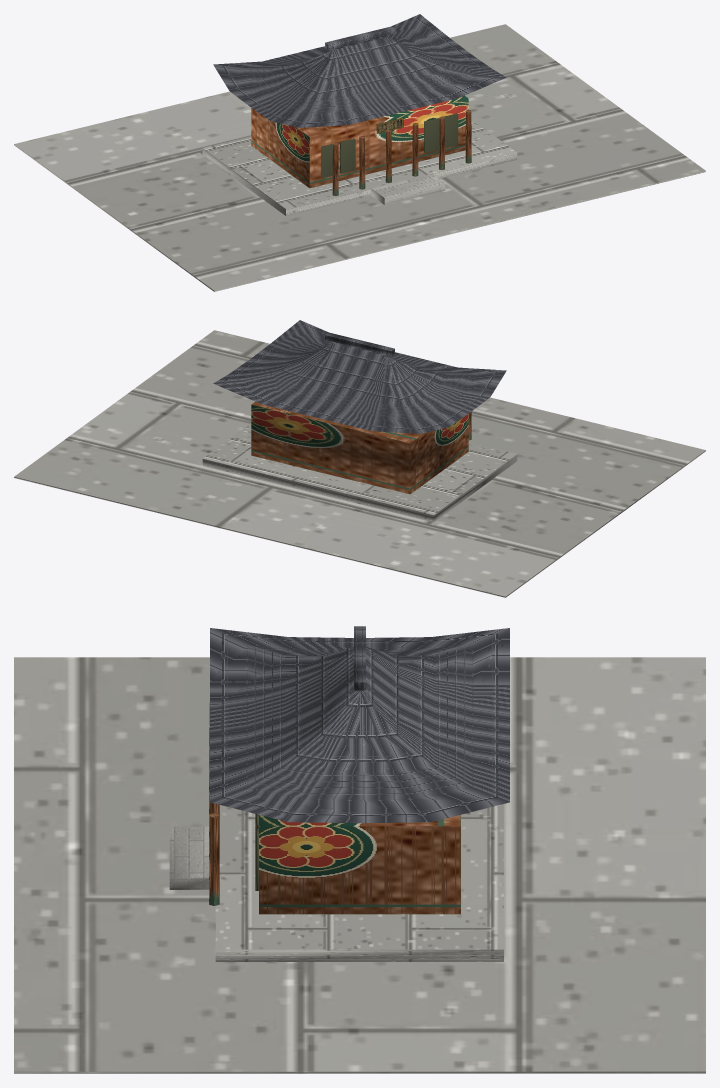
3 renders of one model, top to bottom at view 1: azimuth 30°, elevation 25°; view 2: azimuth 150°, elevation 25°; view 3: azimuth 270°, elevation 25°, orthographic. The views are drawn at different scales.
Visible parts, largest first — view 1: 11140_02_04519_004_01_L2__plinth, 11140_02_04519_004_03_L2__roof, 11140_02_04519_004_02_L2__body, 11140_02_04519_004_05_L2__openings; view 2: 11140_02_04519_004_01_L2__plinth, 11140_02_04519_004_03_L2__roof, 11140_02_04519_004_02_L2__body; view 3: 11140_02_04519_004_01_L2__plinth, 11140_02_04519_004_03_L2__roof, 11140_02_04519_004_02_L2__body.
Part boxes in pixels (x1=…): 11140_02_04519_004_01_L2__plinth: x1=14, y1=24, x2=705, y2=291; 11140_02_04519_004_03_L2__roof: x1=213, y1=14, x2=506, y2=127; 11140_02_04519_004_02_L2__body: x1=251, y1=95, x2=471, y2=195; 11140_02_04519_004_05_L2__openings: x1=321, y1=113, x2=458, y2=178; 11140_02_04519_004_01_L2__plinth: x1=14, y1=330, x2=705, y2=597; 11140_02_04519_004_03_L2__roof: x1=213, y1=320, x2=506, y2=433; 11140_02_04519_004_02_L2__body: x1=251, y1=401, x2=471, y2=494; 11140_02_04519_004_01_L2__plinth: x1=14, y1=657, x2=705, y2=1073; 11140_02_04519_004_03_L2__roof: x1=210, y1=626, x2=509, y2=823; 11140_02_04519_004_02_L2__body: x1=209, y1=702, x2=460, y2=914.
Size of the model in its own units: 34 by 8.12 by 24.
5 materials, 5 textured.
